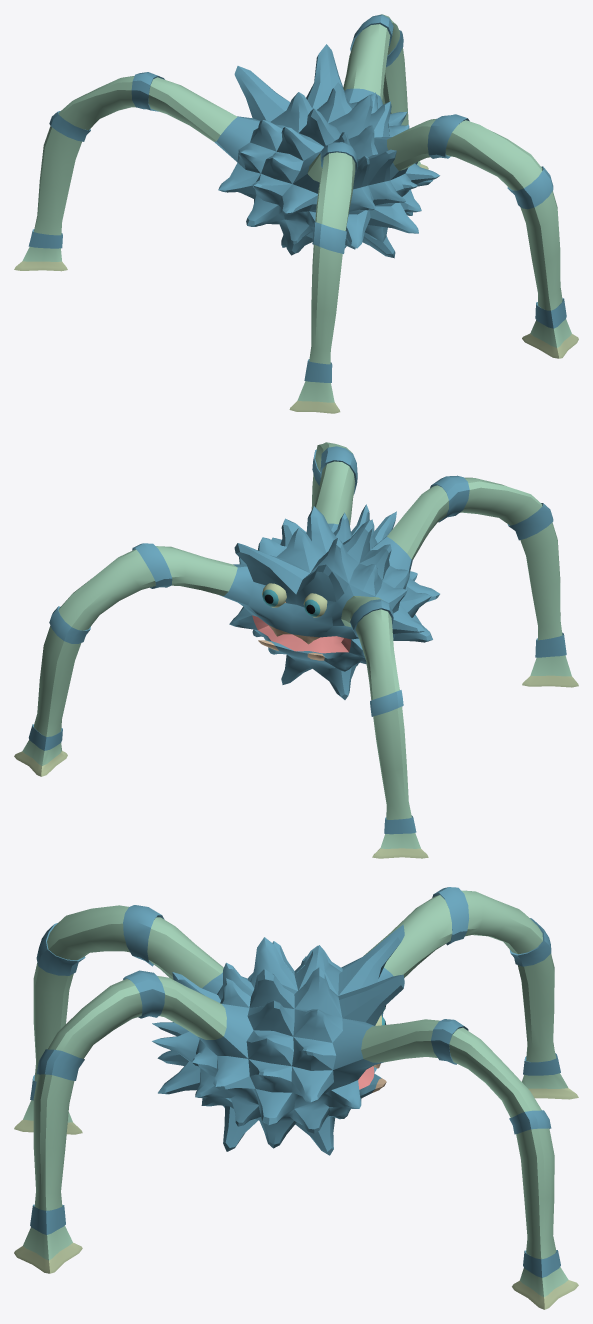
File: melee body parts.fbx
The picture shows the model from 3 angles, top to bottom: view 1: azimuth 30°, elevation 25°; view 2: azimuth 150°, elevation 25°; view 3: azimuth 270°, elevation 25°; orthographic projection. The views are drawn at different scales.
Parts seen in each view (by area): view 1: body.001, melee right rear leg, melee left leg, melee left rear leg, melee right leg; view 2: body.001, melee right leg, melee left rear leg, melee left leg, melee right rear leg; view 3: body.001, melee right rear leg, melee right leg, melee left leg, melee left rear leg.
Part boxes in pixels (x1,y1,x2,y2): body.001: (214,44,439,258); melee right rear leg: (387,114,578,358); melee left leg: (14,72,237,271); melee left rear leg: (289,142,357,413); melee right leg: (343,14,428,169); body.001: (219,504,439,699); melee right leg: (14,543,237,776); melee left rear leg: (387,475,578,687); melee left leg: (341,596,428,858); melee right rear leg: (311,442,357,525); body.001: (152,924,404,1155); melee right rear leg: (14,970,226,1273); melee right leg: (361,1019,578,1309); melee left leg: (363,887,578,1099); melee left rear leg: (14,905,223,1134).
Bounding box in the file's own units: 179 × 90.4 × 182.
